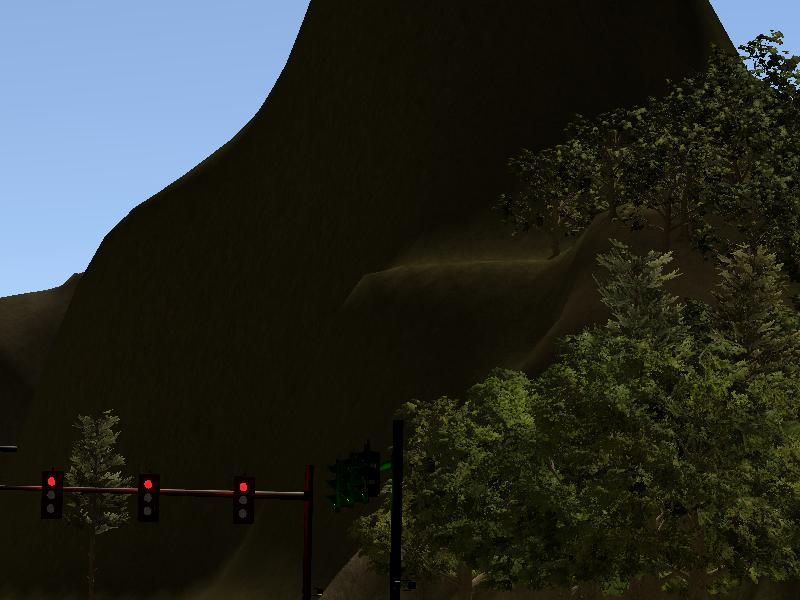Red: (43, 472, 66, 519), (138, 475, 161, 519), (235, 479, 254, 521)
